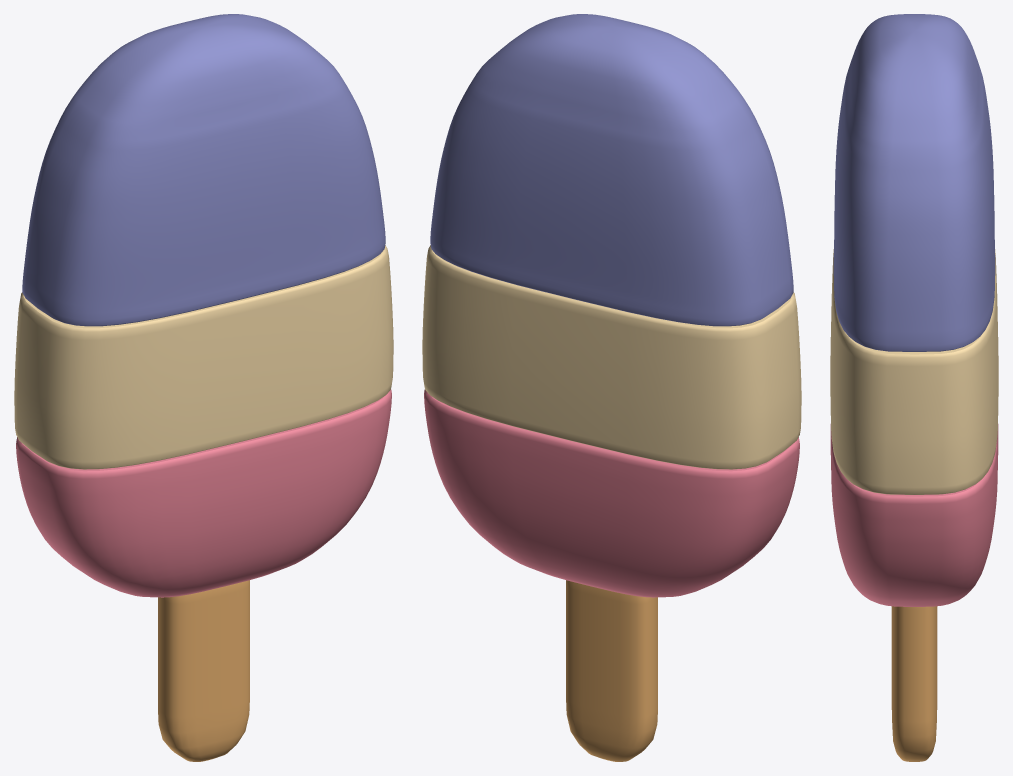
The picture shows the model from 3 angles, left to right: view 1: azimuth 30°, elevation 25°; view 2: azimuth 150°, elevation 25°; view 3: azimuth 270°, elevation 25°; orthographic projection.
Visible parts, largest first — view 1: Part_000_Top, Part_001_Middle, Part_002_Bottom, Part_003_Stick; view 2: Part_000_Top, Part_001_Middle, Part_002_Bottom, Part_003_Stick; view 3: Part_000_Top, Part_001_Middle, Part_002_Bottom, Part_003_Stick.
Boxes of the visible parts, x1=… form: Part_000_Top: x1=22, y1=14, x2=385, y2=326; Part_001_Middle: x1=14, y1=245, x2=393, y2=469; Part_002_Bottom: x1=16, y1=389, x2=391, y2=597; Part_003_Stick: x1=158, y1=580, x2=249, y2=761; Part_000_Top: x1=430, y1=14, x2=793, y2=326; Part_001_Middle: x1=422, y1=245, x2=801, y2=469; Part_002_Bottom: x1=424, y1=389, x2=799, y2=597; Part_003_Stick: x1=566, y1=580, x2=657, y2=761; Part_000_Top: x1=833, y1=14, x2=995, y2=351; Part_001_Middle: x1=830, y1=249, x2=998, y2=494; Part_002_Bottom: x1=830, y1=424, x2=998, y2=606; Part_003_Stick: x1=891, y1=606, x2=937, y2=761.
Size of the model in its own units: 6.93 by 14 by 2.94.
